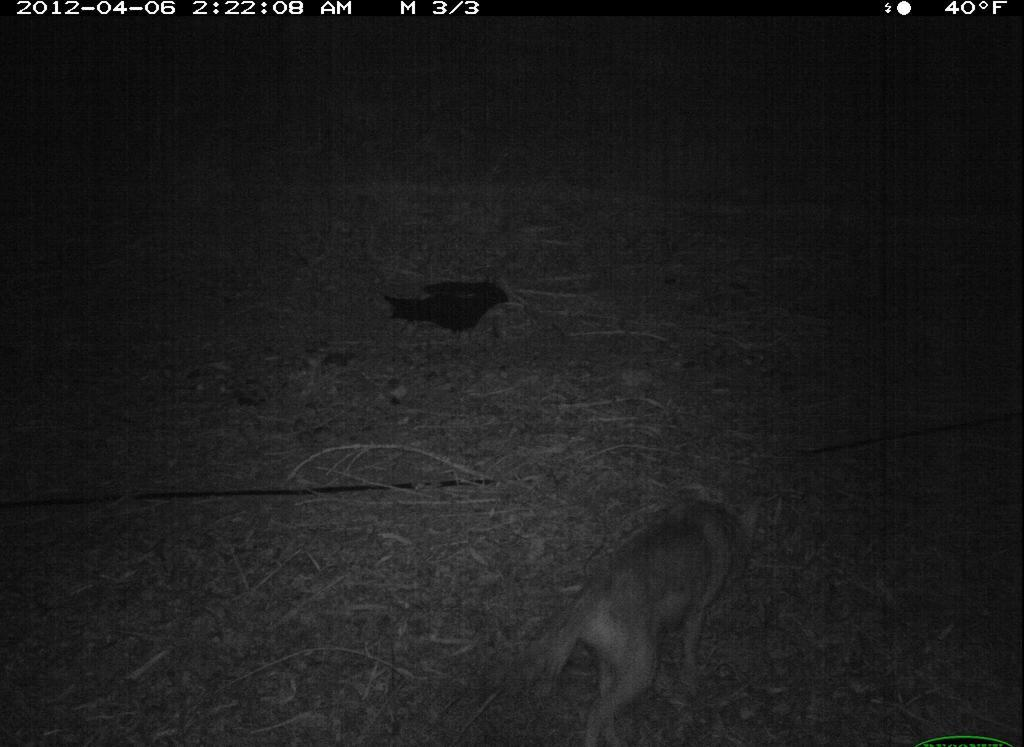coyote: (498, 474, 781, 744)
